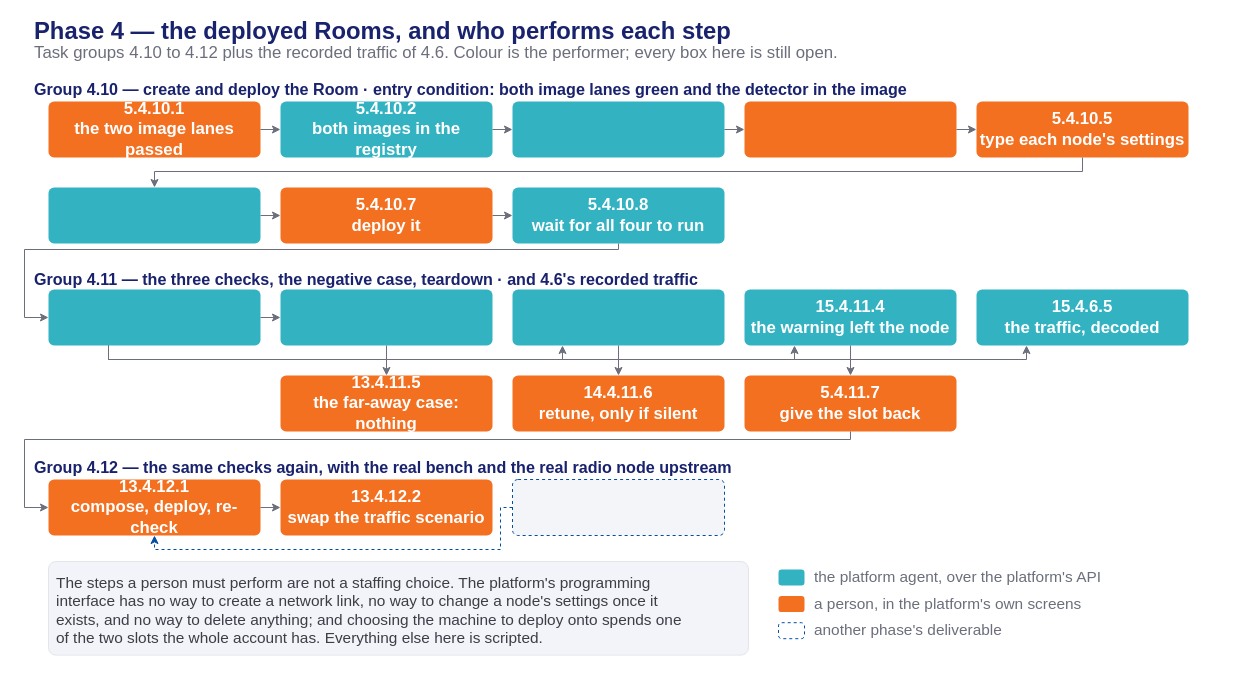
Image size: 1250x673. Some labels were removed from this diagram. Here are the shapes that lost their labels. From the top down, the box of each, then its label:
(512, 101, 724, 157): 5.4.10.3 copy the working blueprint
(744, 101, 956, 157): 6.4.10.4 reduce it, draw the one link
(48, 187, 260, 243): 5.4.10.6 read the settings back, diff
(48, 289, 260, 345): 18.4.11.1 save all three node logs
(280, 289, 492, 345): 2.4.11.2 the message arrived
(512, 289, 724, 345): 13.4.11.3 both vehicles are tracked
(512, 478, 724, 536): Phase 1's two nodes needed only here
